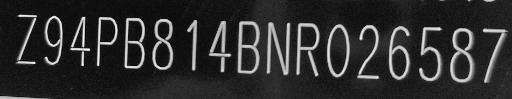letter: (477, 23, 509, 84), (382, 22, 414, 79), (446, 25, 476, 84), (415, 25, 445, 82), (264, 18, 294, 75), (207, 17, 235, 74), (235, 17, 263, 74), (295, 19, 323, 76), (325, 21, 353, 78), (40, 13, 70, 66), (121, 15, 151, 68), (355, 22, 381, 81), (151, 16, 179, 69), (69, 12, 95, 67), (94, 14, 122, 65), (182, 17, 206, 74), (13, 12, 37, 65)
